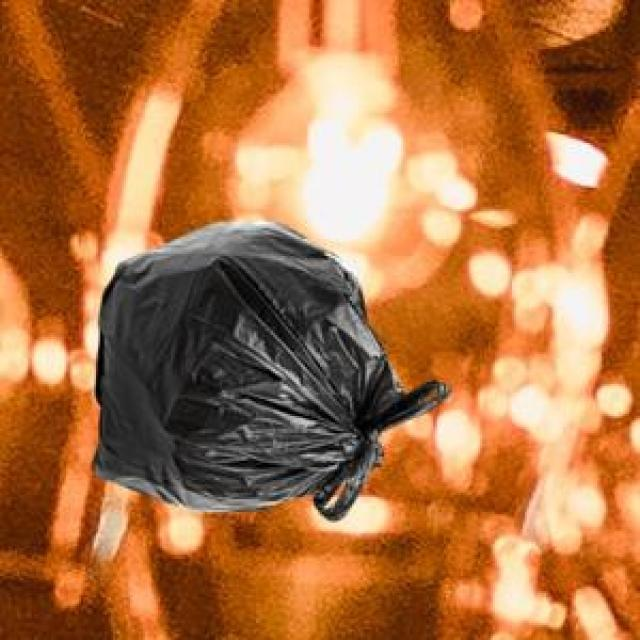Vinyl: (98, 224, 449, 519)
